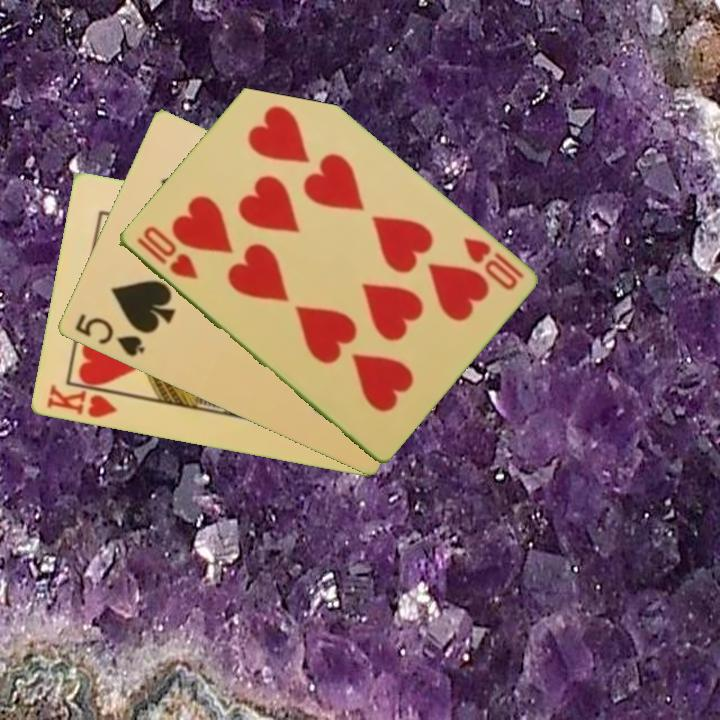10h: (458, 233, 527, 294), (132, 222, 200, 283)
5s: (70, 310, 148, 360)
Kh: (43, 381, 127, 421)
